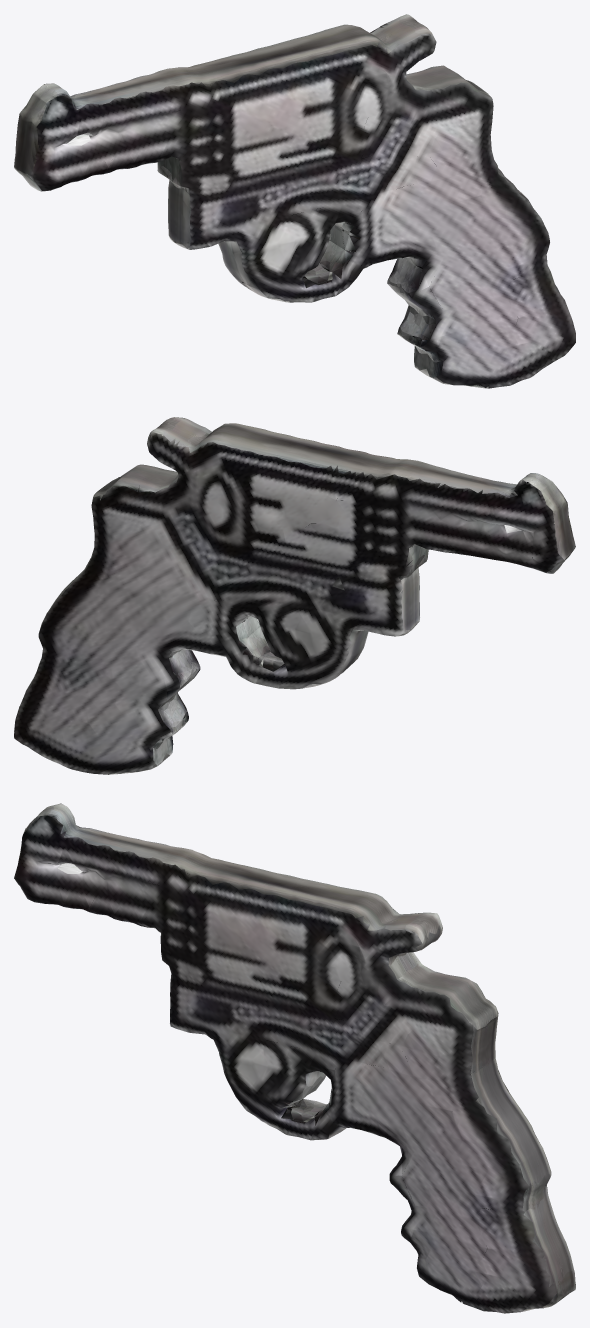
File: demo-revolver.glb
The picture shows the model from 3 angles, top to bottom: view 1: azimuth 30°, elevation 25°; view 2: azimuth 150°, elevation 25°; view 3: azimuth 330°, elevation 25°; orthographic projection. The views are drawn at different scales.
Visible parts, largest first — view 1: world; view 2: world; view 3: world.
Part boxes in pixels (left/top/right/bottom): world: left=14, top=14, right=575, bottom=388; world: left=14, top=417, right=575, bottom=774; world: left=14, top=803, right=575, bottom=1313.
Bounding box in the file's own units: 0.9577 × 0.6661 × 0.1082.
1 material, 1 textured.
